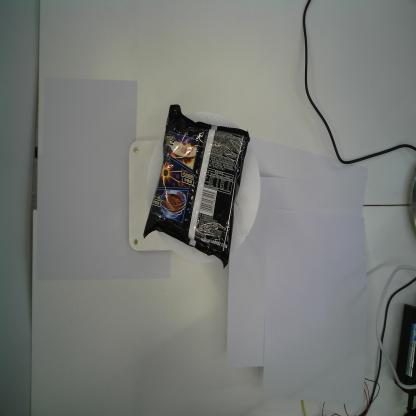Instant Noodles: (142, 102, 252, 271)
